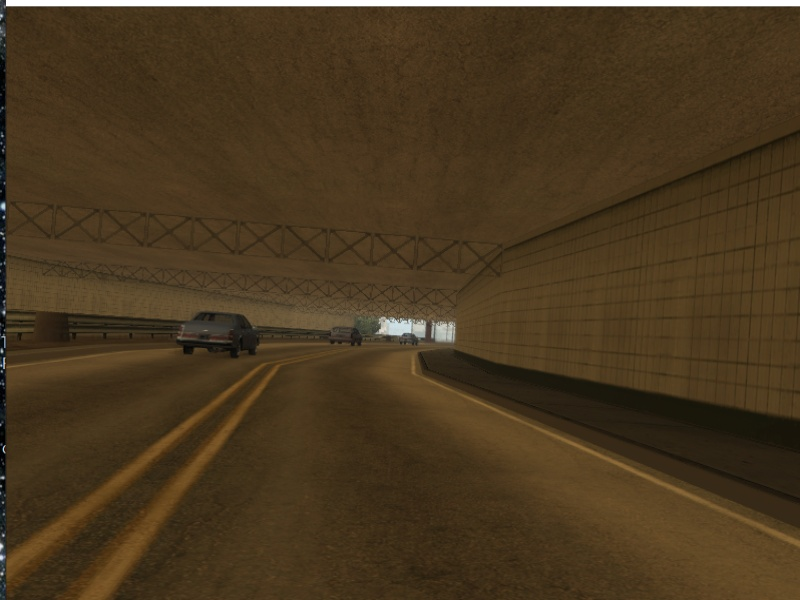vehicle: (173, 309, 265, 359), (324, 324, 364, 349), (398, 333, 419, 347)
